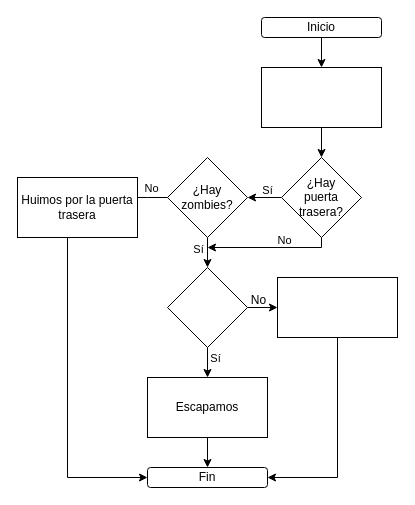
This 415x505 diagram has some shape labels left out. Here are the shapes that lost their labels. From the top down, the centre of each, then its label:
[321,97]: Entramos al almacén
[207,307]: ¿Tenemos armas?
[337,307]: Morimos
